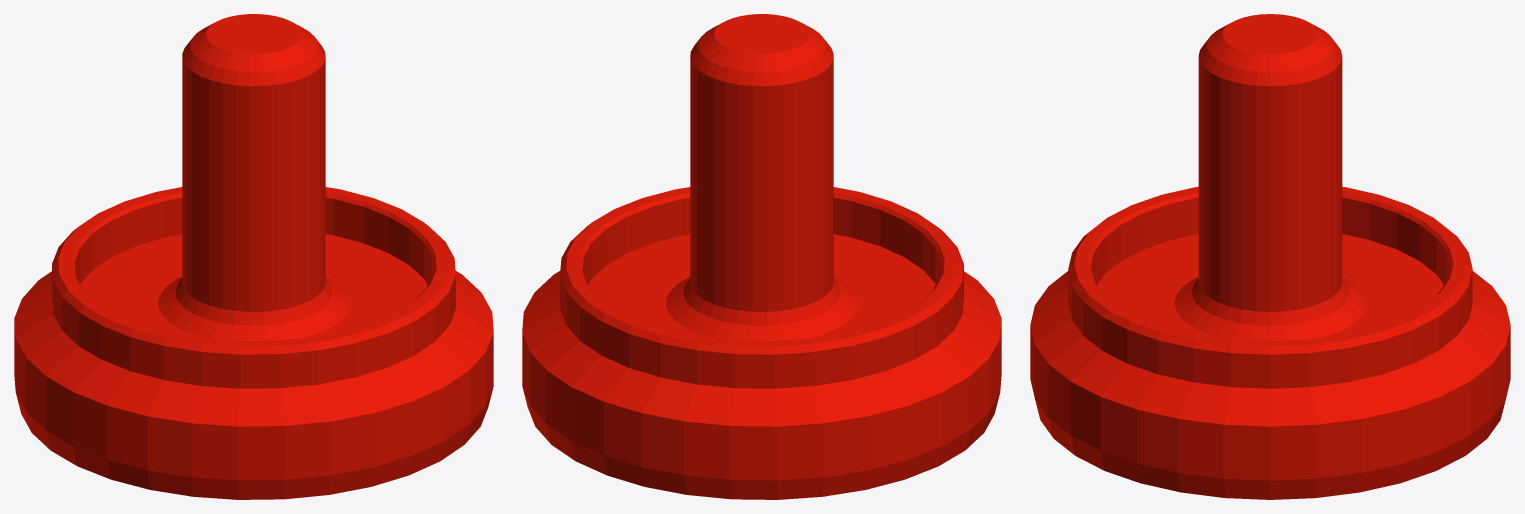
The model's file is handle.fbx.
The picture shows the model from 3 angles, left to right: view 1: azimuth 30°, elevation 25°; view 2: azimuth 150°, elevation 25°; view 3: azimuth 270°, elevation 25°; orthographic projection.
Parts seen in each view (by area): view 1: Cylinder; view 2: Cylinder; view 3: Cylinder.
Boxes of the visible parts, <box> form: Cylinder: <box>14,14,493,499</box>; Cylinder: <box>522,14,1001,499</box>; Cylinder: <box>1030,14,1510,499</box>.
Bounding box in the file's own units: 200 × 168 × 200.
